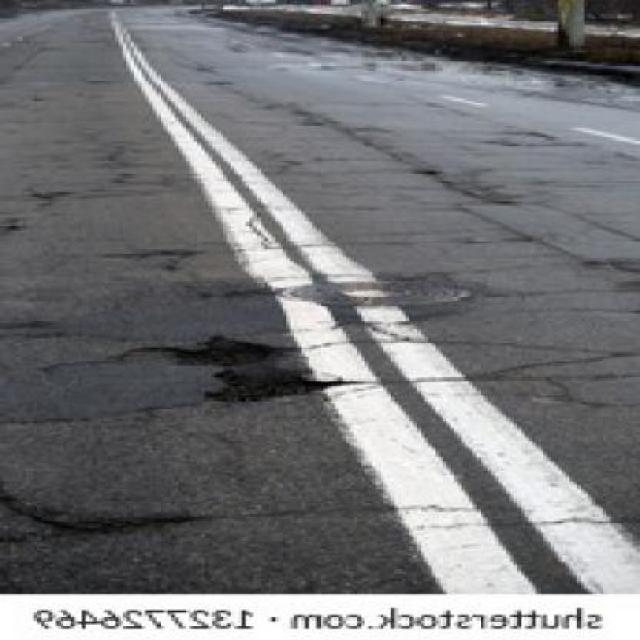Pothole: (164, 332, 350, 406)
